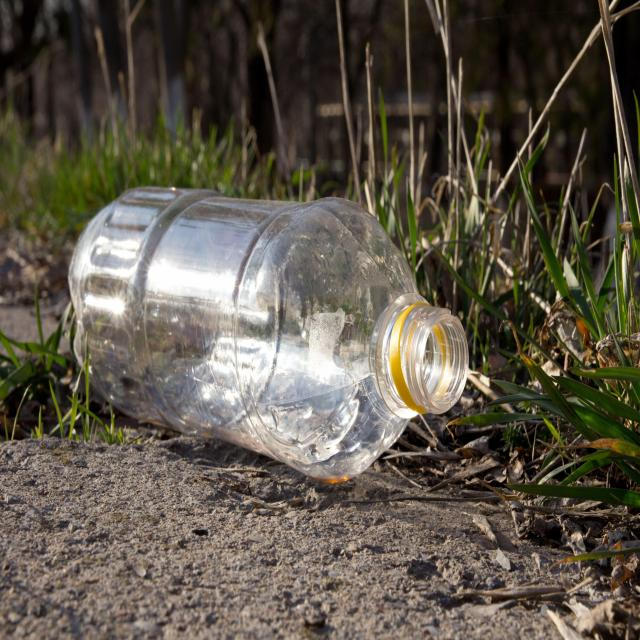bottle: (54, 175, 487, 495)
